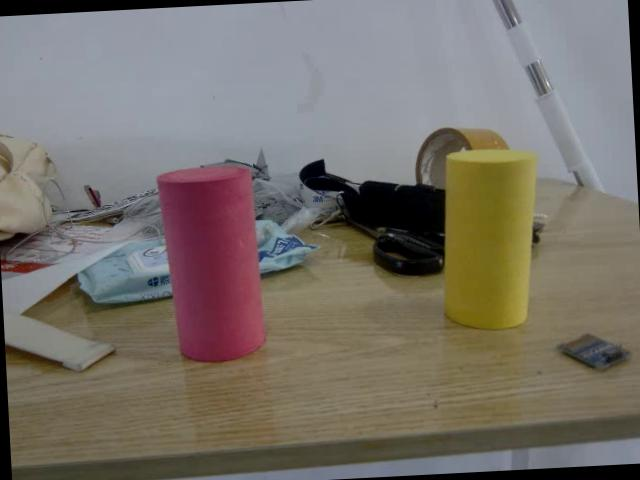red_cylinder: (160, 165, 264, 362)
yellow_cylinder: (434, 145, 546, 332)
